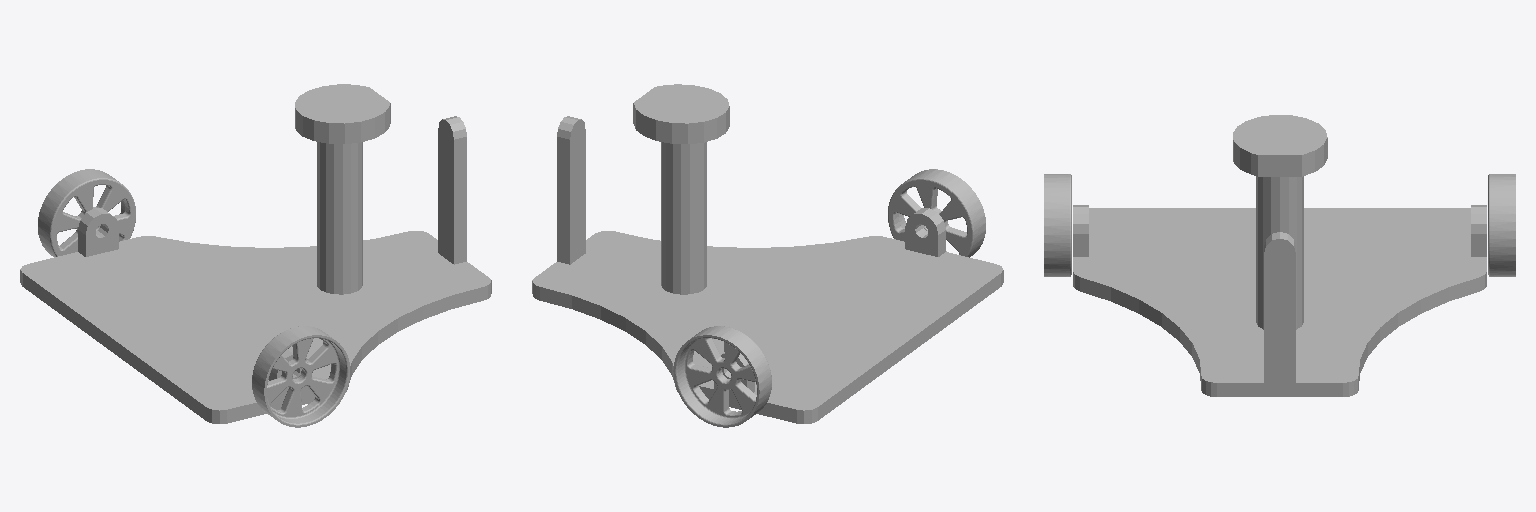
URDF robot description (Car_1):
<?xml version="1.0" encoding="utf-8"?>
<!-- This URDF was automatically created by SolidWorks to URDF Exporter! Originally created by [author] ([email redacted]) 
     Commit Version: 1.6.0-1-g15f4949  Build Version: 1.6.7594.29634
     For more information, please see http://wiki.ros.org/sw_urdf_exporter -->
<robot
  name="Car_1">
  <link
    name="base_link">
    <inertial>
      <origin
        xyz="-0.049162571305808 2.06560243570411E-08 0.0236074688836763"
        rpy="0 0 0" />
      <mass
        value="0.641747602959265" />
      <inertia
        ixx="0.00313527213737717"
        ixy="-7.49677984656962E-10"
        ixz="-0.000661085860782976"
        iyy="0.00416254887575903"
        iyz="-1.29839132921862E-09"
        izz="0.00533483172736673" />
    </inertial>
    <visual>
      <origin
        xyz="0 0 0"
        rpy="0 0 0" />
      <geometry>
        <mesh
          filename="package://Car_1/meshes/base_link.STL" />
      </geometry>
      <material
        name="">
        <color
          rgba="0.752941176470588 0.752941176470588 0.752941176470588 1" />
      </material>
    </visual>
    <collision>
      <origin
        xyz="0 0 0"
        rpy="0 0 0" />
      <geometry>
        <mesh
          filename="package://Car_1/meshes/base_link.STL" />
      </geometry>
    </collision>
  </link>
  <link
    name="lwheel_link">
    <inertial>
      <origin
        xyz="8.32667268468867E-17 -0.00295821946504574 -1.73472347597681E-17"
        rpy="0 0 0" />
      <mass
        value="0.0203132942311367" />
      <inertia
        ixx="7.33043982917312E-06"
        ixy="-9.83066717785833E-22"
        ixz="7.24964434075558E-21"
        iyy="1.39291601103077E-05"
        iyz="6.88358844317856E-22"
        izz="7.33043982917311E-06" />
    </inertial>
    <visual>
      <origin
        xyz="0 0 0"
        rpy="0 0 0" />
      <geometry>
        <mesh
          filename="package://Car_1/meshes/lwheel_link.STL" />
      </geometry>
      <material
        name="">
        <color
          rgba="0.752941176470588 0.752941176470588 0.752941176470588 1" />
      </material>
    </visual>
    <collision>
      <origin
        xyz="0 0 0"
        rpy="0 0 0" />
      <geometry>
        <mesh
          filename="package://Car_1/meshes/lwheel_link.STL" />
      </geometry>
    </collision>
  </link>
  <joint
    name="lwheel_joint"
    type="continuous">
    <origin
      xyz="-0.11 0.1395 0.026"
      rpy="0 0 0" />
    <parent
      link="base_link" />
    <child
      link="lwheel_link" />
    <axis
      xyz="0 -1 0" />
  </joint>
  <link
    name="rwheel_link">
    <inertial>
      <origin
        xyz="-5.55111512312578E-17 -0.00295821946504568 -2.08166817117217E-17"
        rpy="0 0 0" />
      <mass
        value="0.0203132942311367" />
      <inertia
        ixx="7.33043982917312E-06"
        ixy="8.68791330407238E-22"
        ixz="7.30601318559906E-21"
        iyy="1.39291601103077E-05"
        iyz="-8.1085235081008E-22"
        izz="7.33043982917312E-06" />
    </inertial>
    <visual>
      <origin
        xyz="0 0 0"
        rpy="0 0 0" />
      <geometry>
        <mesh
          filename="package://Car_1/meshes/rwheel_link.STL" />
      </geometry>
      <material
        name="">
        <color
          rgba="0.752941176470588 0.752941176470588 0.752941176470588 1" />
      </material>
    </visual>
    <collision>
      <origin
        xyz="0 0 0"
        rpy="0 0 0" />
      <geometry>
        <mesh
          filename="package://Car_1/meshes/rwheel_link.STL" />
      </geometry>
    </collision>
  </link>
  <joint
    name="rwheel_joint"
    type="continuous">
    <origin
      xyz="-0.11 -0.1395 0.026"
      rpy="3.14159265358979 0 0" />
    <parent
      link="base_link" />
    <child
      link="rwheel_link" />
    <axis
      xyz="0 -1 0" />
  </joint>
</robot>

--- What the picture shows (computed from the rendered views, not written in the file) ---
3 views of the same robot in one strip: view 1: azimuth 30°, elevation 25°; view 2: azimuth 150°, elevation 25°; view 3: azimuth 270°, elevation 25° (orthographic).
Robot: Car_1 — 3 links, 2 joints (2 continuous); root link base_link; default pose: every joint at zero.
Links seen in each view (by area): view 1: base_link, rwheel_link, lwheel_link; view 2: base_link, lwheel_link, rwheel_link; view 3: base_link, lwheel_link, rwheel_link.
Link boxes in pixels (x1,y1,x2,y2): base_link: (20,84,491,423); rwheel_link: (252,326,349,427); lwheel_link: (38,169,135,256); base_link: (532,84,1003,423); lwheel_link: (673,326,771,427); rwheel_link: (888,169,985,257); base_link: (1073,115,1486,396); lwheel_link: (1488,174,1515,276); rwheel_link: (1044,174,1071,276).
Bounding box of the posed robot: 0.26 × 0.296 × 0.1465 m (x, y, z).
Meshes: 3 distinct files referenced, 3 mesh visuals loaded (3 binary STL).